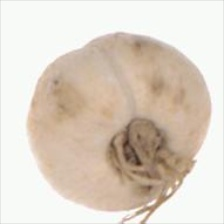L4: (26, 31, 210, 211)
